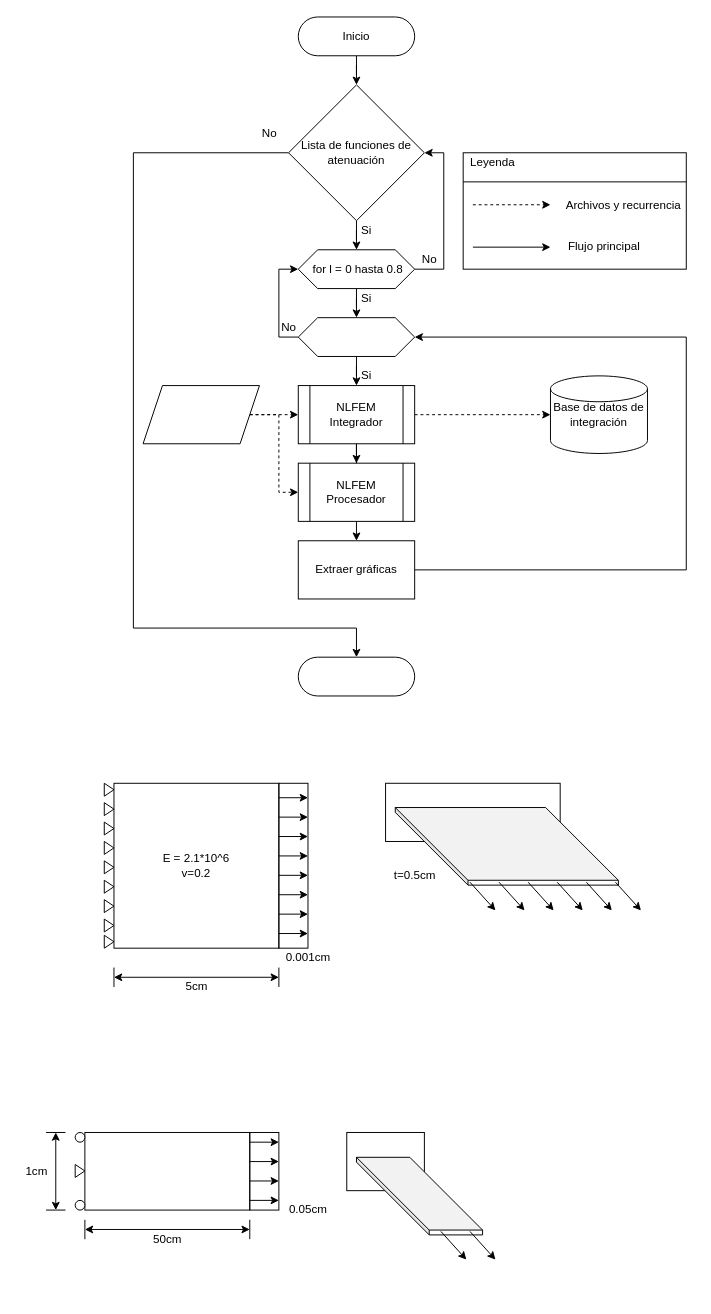
Some shapes in this 711 by 1314 pixel diagram are drawn without their labels. The shapes that lost their labels are listed below. From the top down, each one's centre as x and y in pixels, then its label:
At (356,336): "for z1 = 0 hasta 1".
At (200,414): "Geometría".
At (356,676): "Fin".
At (419,1195): "t=0.1cm".
